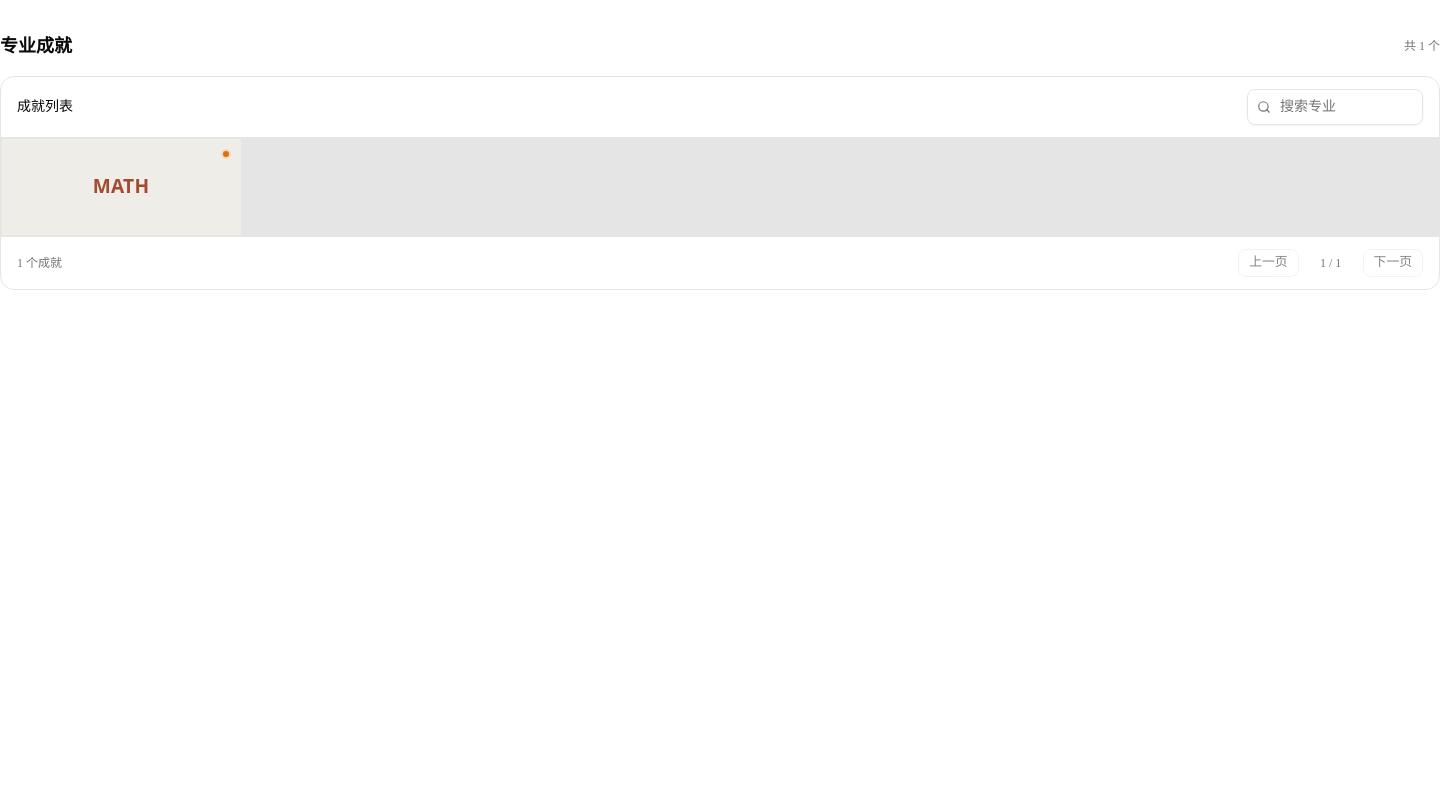
Test: ProfessionalAchievementInventory › keeps comment display controls available while an achievement can upgrade
Click the button with aria-label "数学，可以升级": (121,187) [2,139,240,235]
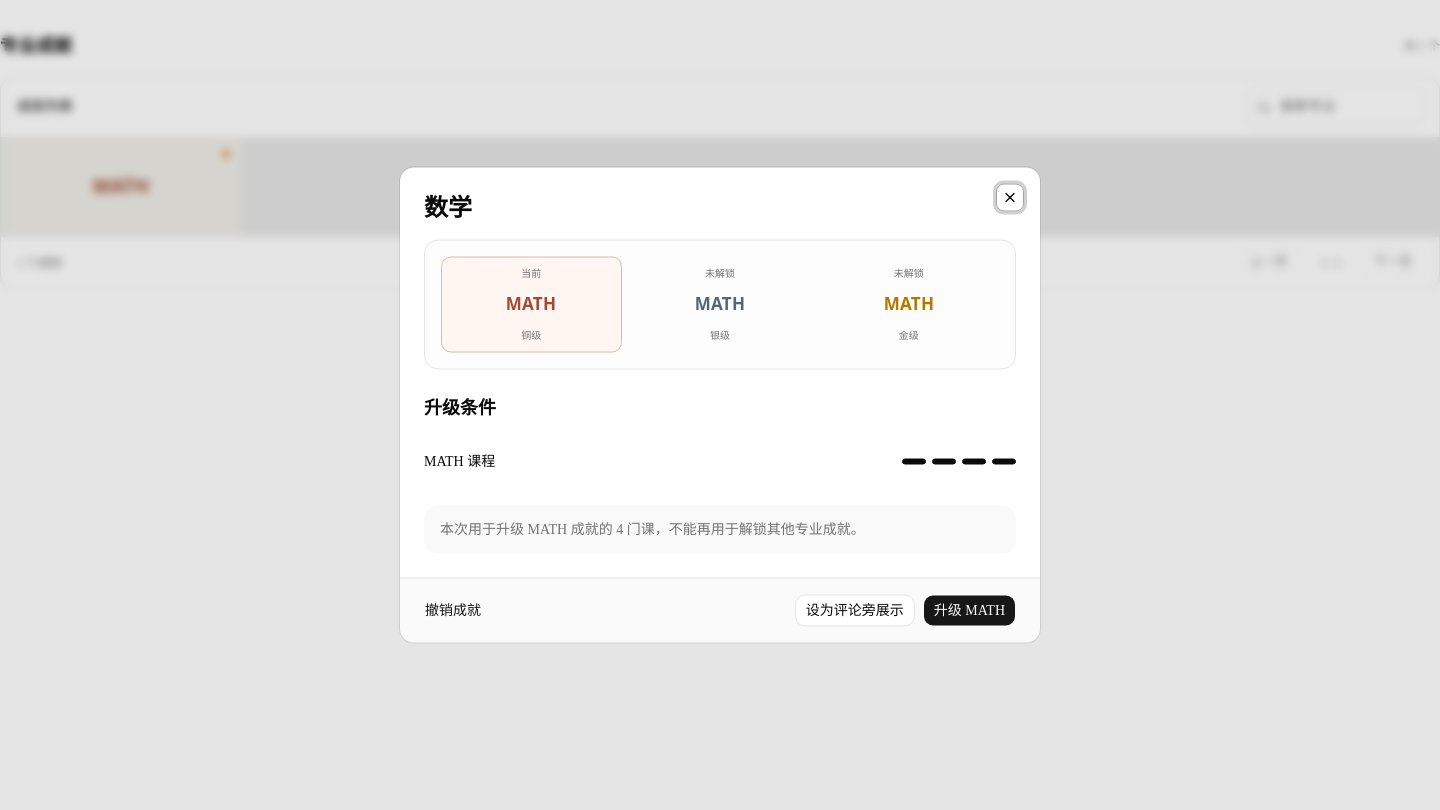
Check: the button "设为评论旁展示" is shown, box [795,594,915,626]
Check: the button "升级 MATH" is shown, box [923,594,1016,626]
